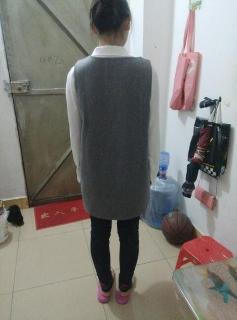long sleeve top: (66, 45, 160, 187)
trousers: (81, 156, 147, 292)
vest: (74, 55, 152, 220)
